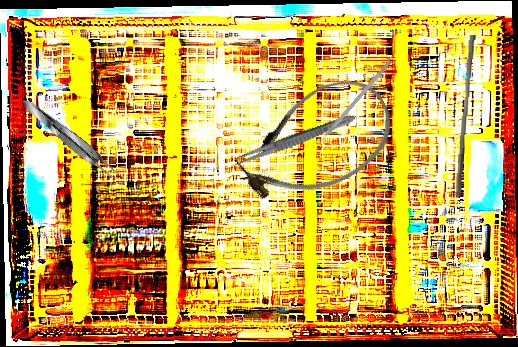Cannula: (224, 63, 408, 222)
Chopper: (309, 55, 393, 149)
Dressing Forceps: (229, 110, 358, 171)
Pusher: (455, 34, 476, 198)
Tissue Forceps: (17, 93, 123, 184)
